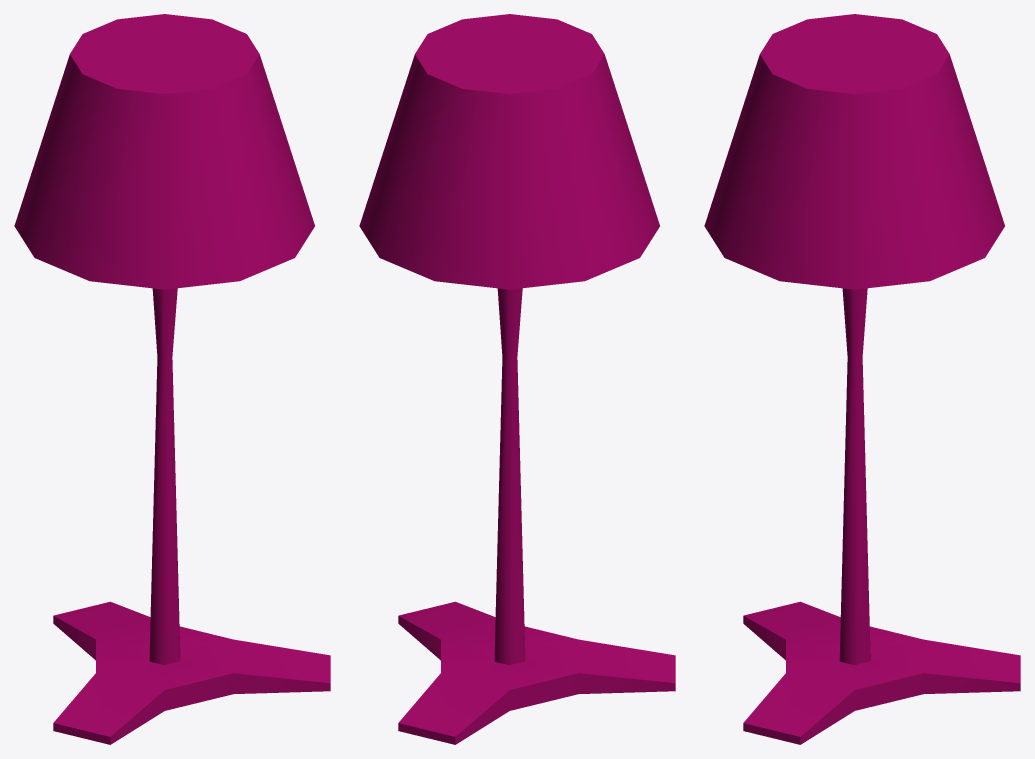
The model's file is wardrobe_low.fbx.
3 renders of one model, left to right at view 1: azimuth 30°, elevation 25°; view 2: azimuth 150°, elevation 25°; view 3: azimuth 270°, elevation 25°, orthographic.
Parts seen in each view (by area): view 1: q2_low, q1_low; view 2: q2_low, q1_low; view 3: q2_low, q1_low.
Part boxes in pixels (x1,y1,x2,y2): q2_low: (14, 14, 314, 289); q1_low: (53, 288, 330, 744); q2_low: (359, 14, 659, 289); q1_low: (398, 288, 675, 744); q2_low: (704, 14, 1004, 289); q1_low: (743, 288, 1020, 744).
Size of the model in its own units: 2.81 by 6.03 by 2.78.
